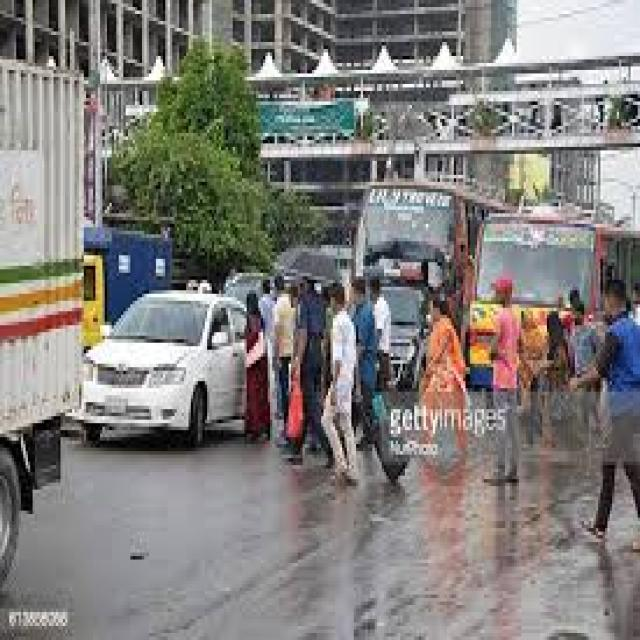Heavy Duty Truck: (2, 53, 86, 602)
Passenger Car: (82, 294, 245, 448)
Pedestrians: (582, 280, 640, 546), (317, 283, 363, 490), (484, 276, 528, 483), (421, 294, 468, 465)
